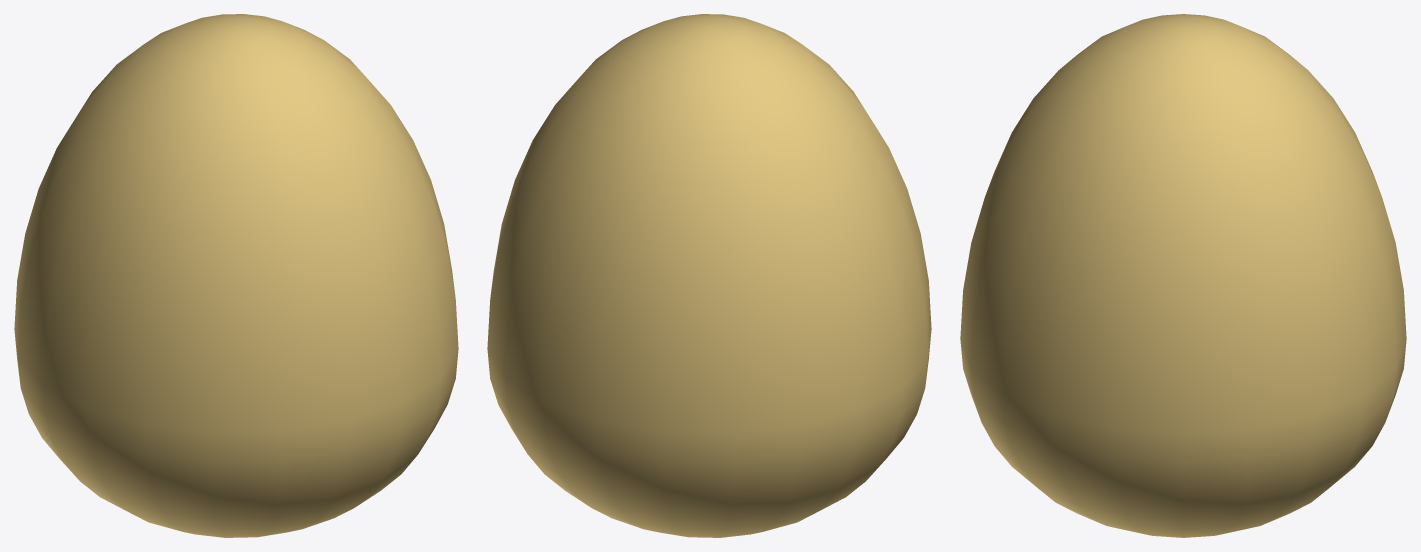
The model's file is Huevo.fbx.
The picture shows the model from 3 angles, left to right: view 1: azimuth 30°, elevation 25°; view 2: azimuth 150°, elevation 25°; view 3: azimuth 270°, elevation 25°; orthographic projection.
Parts seen in each view (by area): view 1: Huevo; view 2: Huevo; view 3: Huevo.
Boxes of the visible parts, <box> form: Huevo: <box>14,14,458,537</box>; Huevo: <box>487,14,931,537</box>; Huevo: <box>960,14,1406,537</box>.
Bounding box in the file's own units: 28.4 × 34.13 × 28.4.
Materials: 1 (1 with a texture image).
